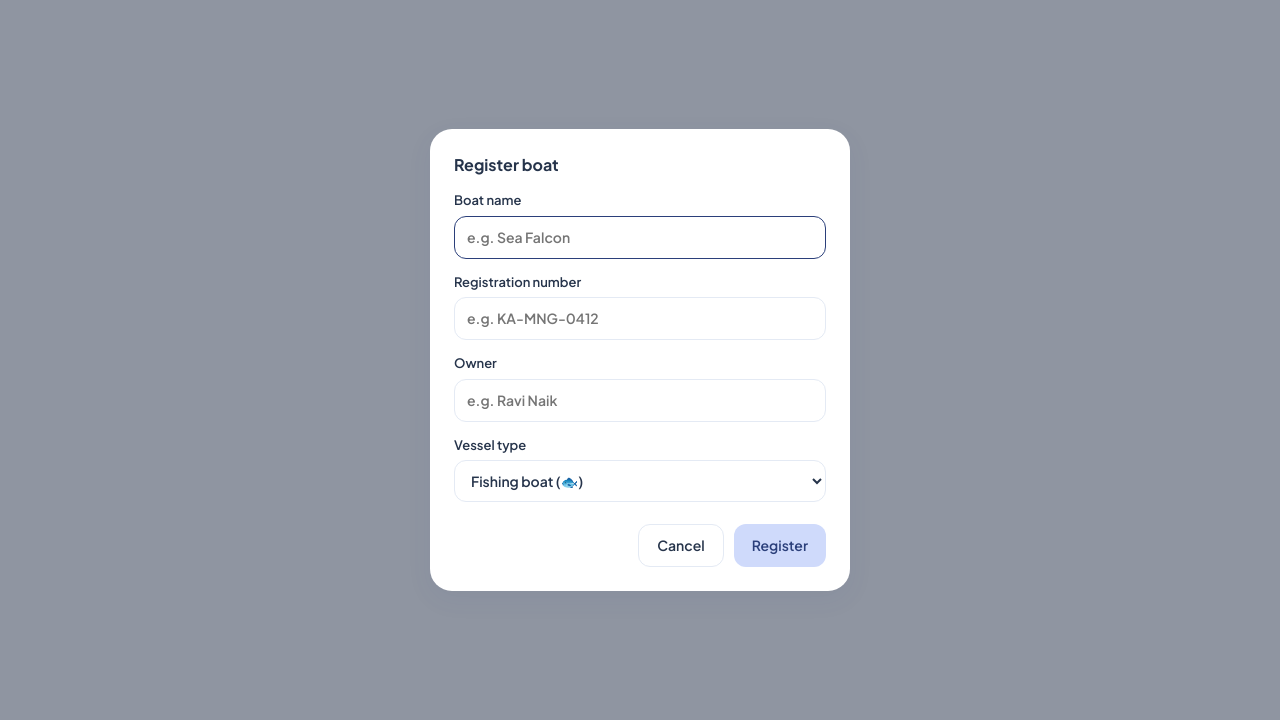
RegisterBoatModal Component › validates required fields before submitting
The image size is (1280, 720).
Click the button "Register" at (780, 546), box [734,524,826,567]
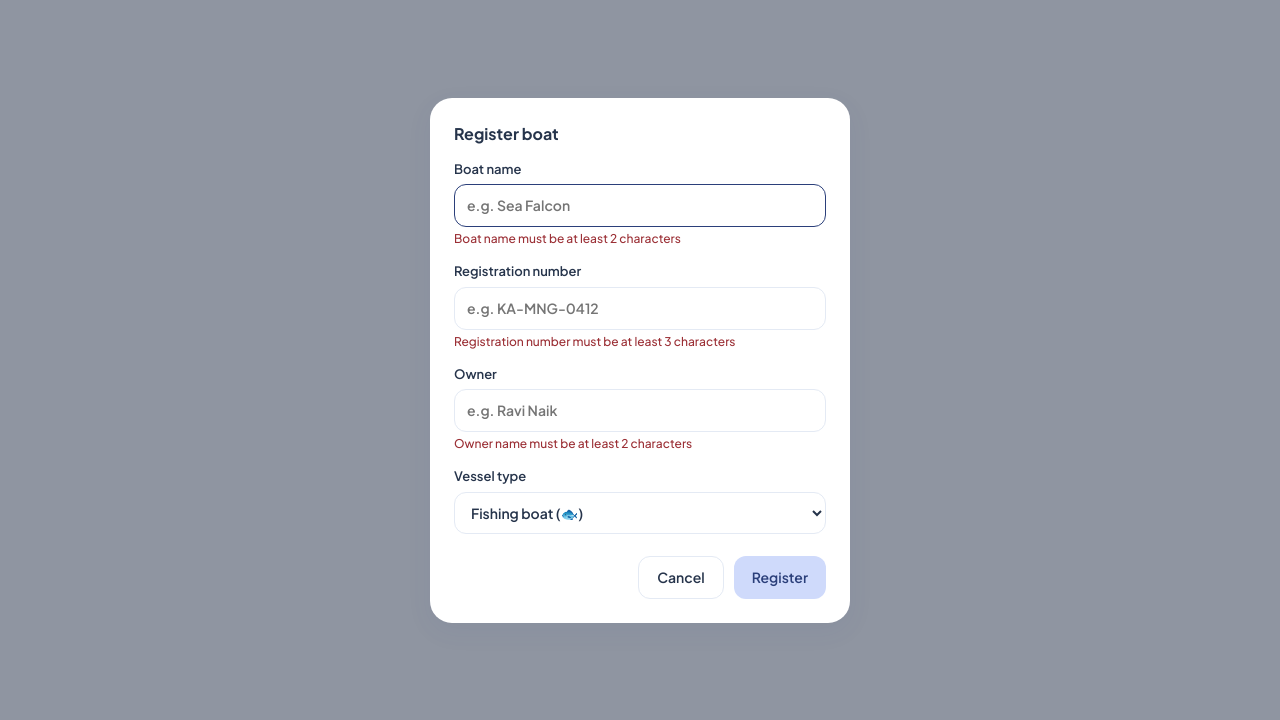
Expected: the text "Boat name must be at least 2 characters" is shown, [454,231,681,246]
